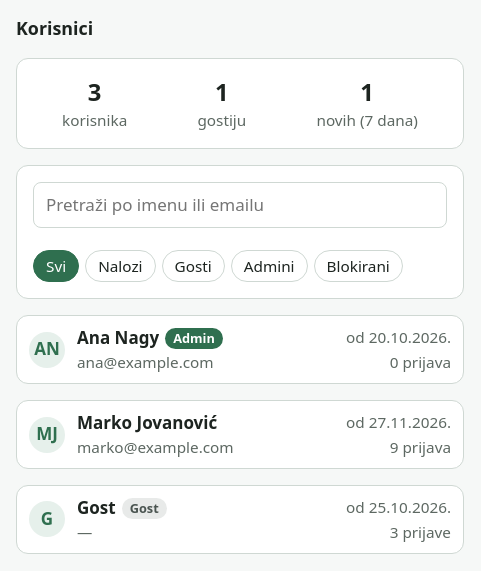
Test case: Users › offers no actions on the admin's own account
Click the text "Ana Nagy" at (118, 339), box [77,326,159,351]
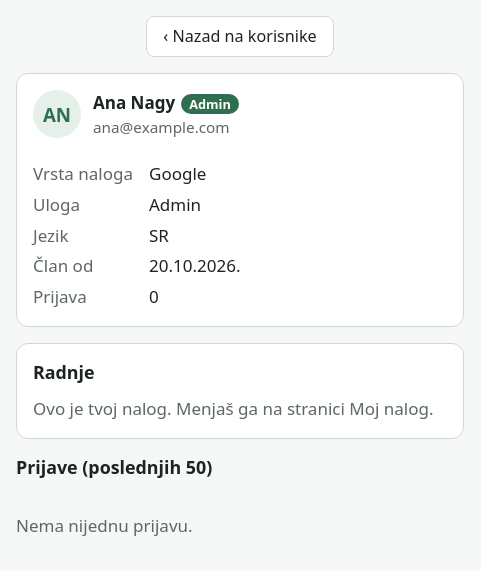
Expected: the text "Ovo je tvoj nalog. Menjaš ga na stranici Moj nalog." is shown, [33,398,447,422]
